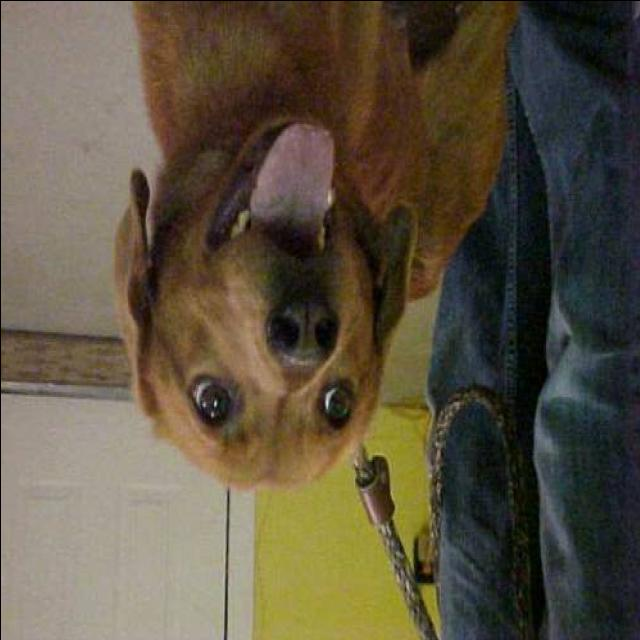dog: (102, 0, 518, 495)
